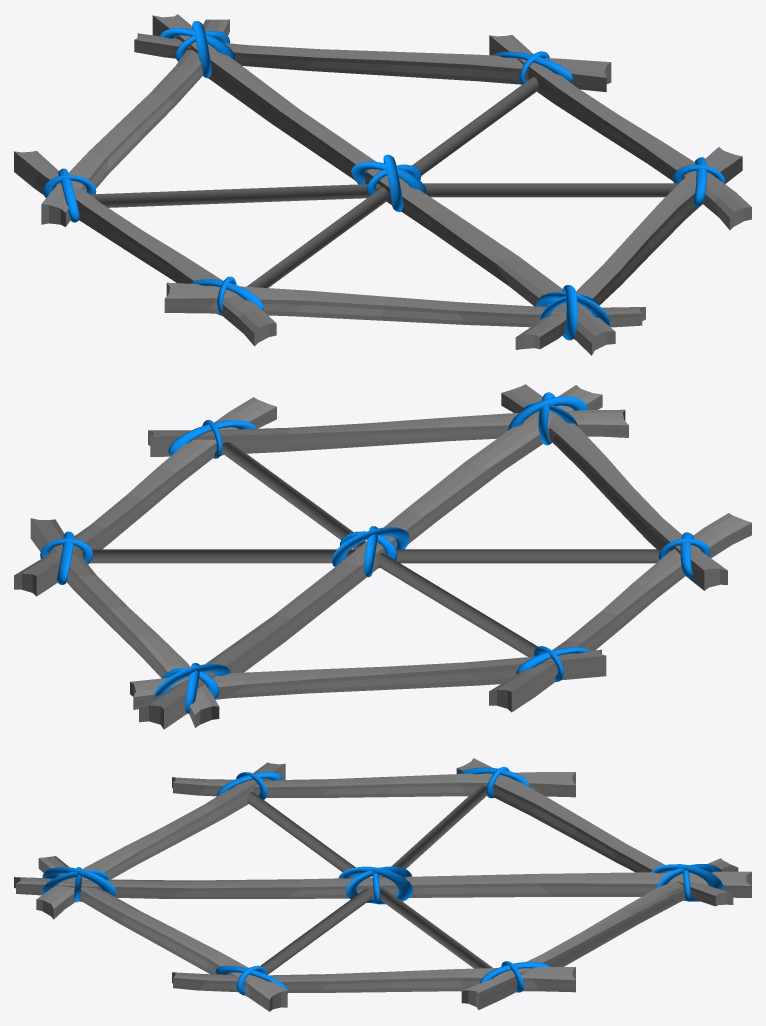
Rendered from TOTEM_1.fbx.
3 views of the same model, one above another, from view 1: azimuth 30°, elevation 25°; view 2: azimuth 150°, elevation 25°; view 3: azimuth 270°, elevation 25° (orthographic). The views are drawn at different scales.
Visible parts, largest first — view 1: stick; view 2: stick; view 3: stick.
Boxes of the visible parts, box(x1,y1,x2,y2) form: stick: box(14, 14, 751, 355); stick: box(14, 384, 751, 729); stick: box(14, 758, 751, 1011).
Bounding box in the file's own units: 0.3942 × 0.0258 × 0.5168.
